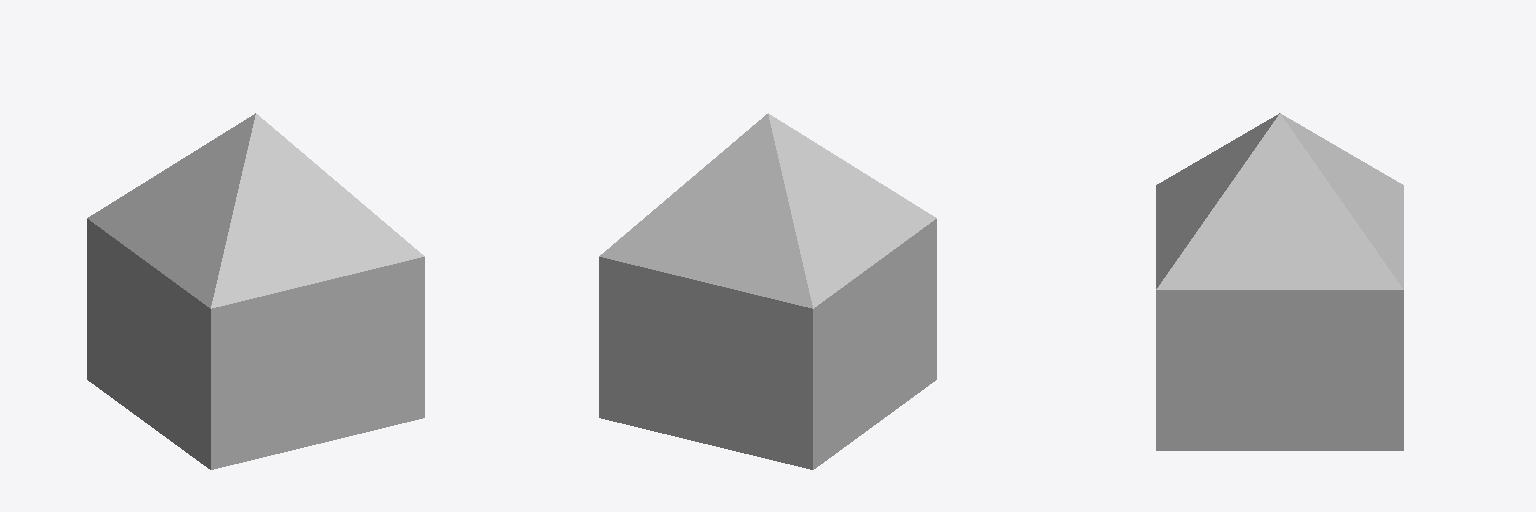
The model's file is House.obj.
The picture shows the model from 3 angles: view 1: azimuth 30°, elevation 25°; view 2: azimuth 150°, elevation 25°; view 3: azimuth 270°, elevation 25°; orthographic projection.
Parts seen in each view (by area): view 1: Cube; view 2: Cube; view 3: Cube.
Part boxes in pixels (bbox=[...]): Cube: bbox=[87, 113, 424, 469]; Cube: bbox=[599, 113, 936, 469]; Cube: bbox=[1156, 113, 1403, 450].
Bounding box in the file's own units: 1.58 × 2.02 × 1.58.